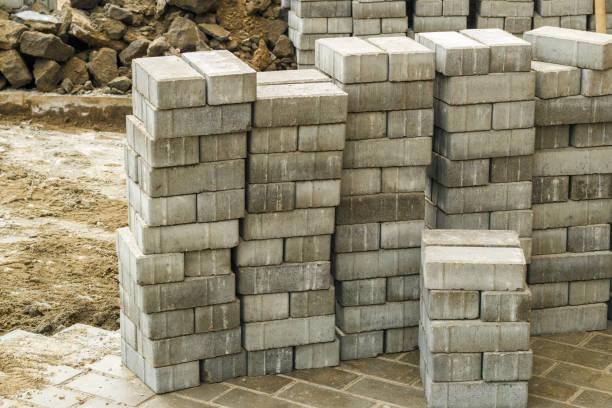Bricks: (423, 242, 526, 292), (253, 80, 347, 123), (126, 116, 200, 169), (126, 51, 196, 107), (310, 34, 386, 84), (523, 26, 611, 69), (146, 103, 248, 140), (413, 32, 491, 76), (459, 27, 531, 73), (428, 318, 528, 350), (368, 34, 435, 81), (341, 303, 422, 341), (148, 162, 244, 193), (534, 145, 611, 182), (435, 130, 533, 159), (139, 331, 243, 357), (431, 184, 531, 211), (533, 198, 611, 232), (532, 93, 611, 125), (530, 251, 611, 282), (533, 308, 609, 341), (336, 251, 421, 280), (245, 321, 335, 348), (340, 195, 425, 223), (183, 44, 251, 79), (244, 266, 328, 294), (141, 280, 237, 304), (140, 226, 242, 248), (428, 379, 527, 401), (424, 226, 518, 249), (348, 139, 430, 164), (443, 79, 527, 102), (245, 214, 336, 235), (348, 86, 431, 109), (249, 156, 339, 177), (534, 62, 586, 97), (428, 351, 480, 382), (205, 73, 256, 103), (425, 290, 478, 317), (484, 289, 531, 319), (293, 180, 339, 210), (249, 125, 296, 154), (114, 235, 143, 282), (299, 123, 347, 151), (193, 193, 242, 220), (483, 351, 532, 378), (200, 134, 248, 160), (390, 111, 436, 138), (249, 67, 324, 83), (143, 367, 200, 388), (348, 111, 389, 140), (188, 251, 230, 279), (117, 265, 145, 305), (254, 183, 293, 211), (384, 169, 429, 193), (337, 220, 377, 247), (378, 223, 422, 246), (571, 176, 610, 201), (157, 85, 205, 105), (197, 307, 237, 331), (139, 259, 182, 281), (237, 241, 284, 261), (534, 284, 570, 310), (567, 228, 611, 249), (251, 294, 291, 317), (531, 228, 565, 255), (293, 343, 341, 362), (147, 205, 190, 226), (286, 242, 330, 262), (291, 293, 337, 312), (125, 182, 149, 218), (120, 289, 143, 326), (351, 2, 401, 19), (251, 349, 289, 370), (345, 171, 381, 192), (389, 333, 419, 358), (297, 0, 347, 15), (119, 315, 142, 347), (151, 314, 194, 331), (481, 2, 535, 15), (538, 130, 571, 151), (575, 127, 612, 145), (121, 346, 141, 376), (536, 179, 562, 202), (411, 17, 460, 29), (204, 357, 238, 374), (341, 338, 378, 353), (543, 4, 595, 14), (575, 285, 611, 299), (376, 17, 407, 32), (127, 210, 141, 242), (295, 21, 331, 33), (415, 1, 443, 15), (503, 17, 529, 32), (125, 151, 136, 186), (351, 21, 380, 34), (136, 161, 147, 192), (446, 0, 466, 14), (330, 20, 350, 34), (534, 18, 561, 28), (562, 18, 584, 28), (483, 20, 501, 26)
